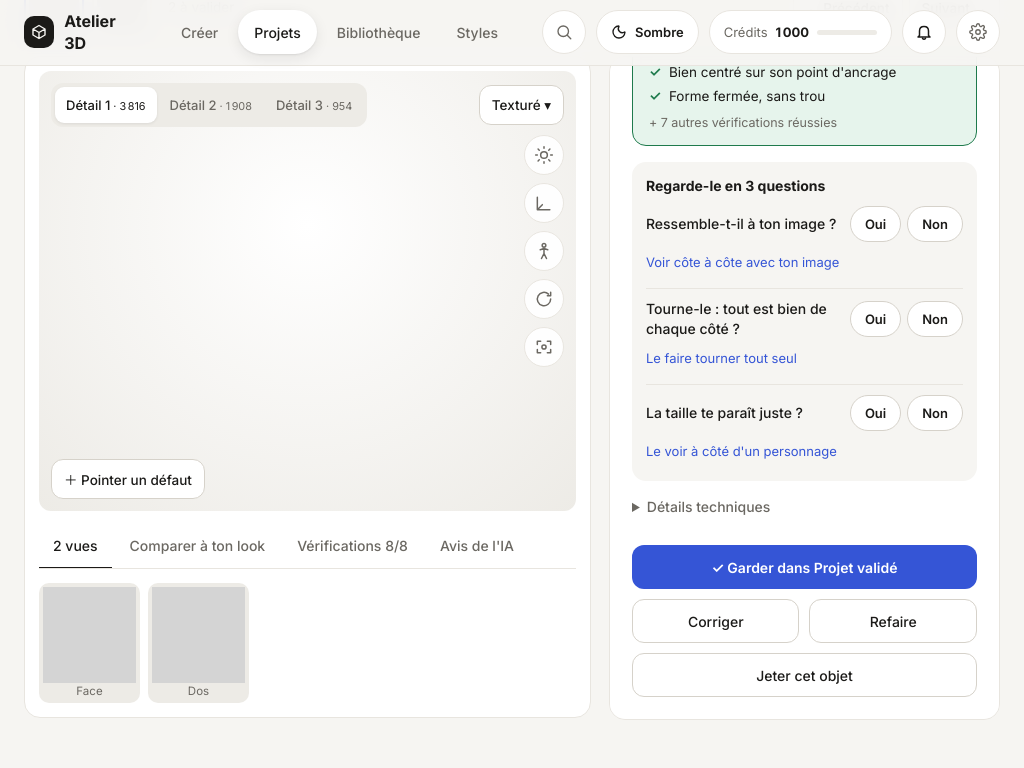
Test: Validation › jeter envoie le motif choisi ; quand tout est décidé, l'écran de fin propose l'Essai
The image size is (1024, 768).
(page scrolled)
What coordinates should you click on to do the following:
click the button "✓ Garder dans Projet validé"
I would click on:
 (804, 567)
Its box is [632,545,977,589].
(page scrolled)
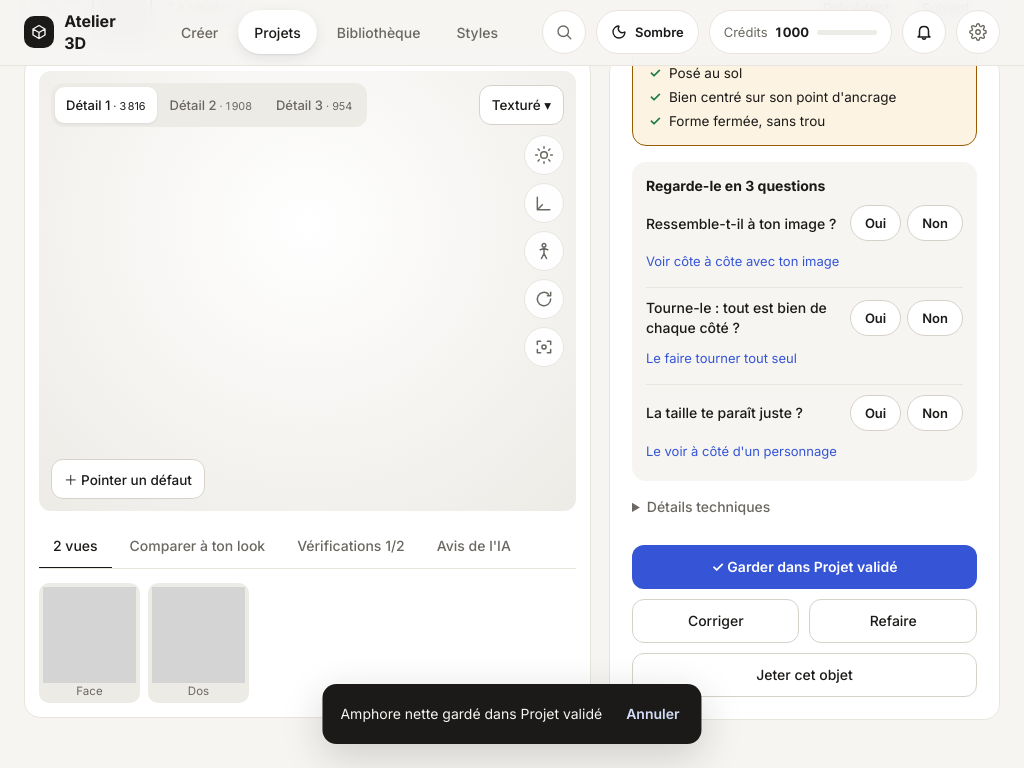
What coordinates should you click on to do the following:
click the button "Jeter cet objet"
I would click on:
 (804, 674)
Its box is [632,652,977,696].
(page scrolled)
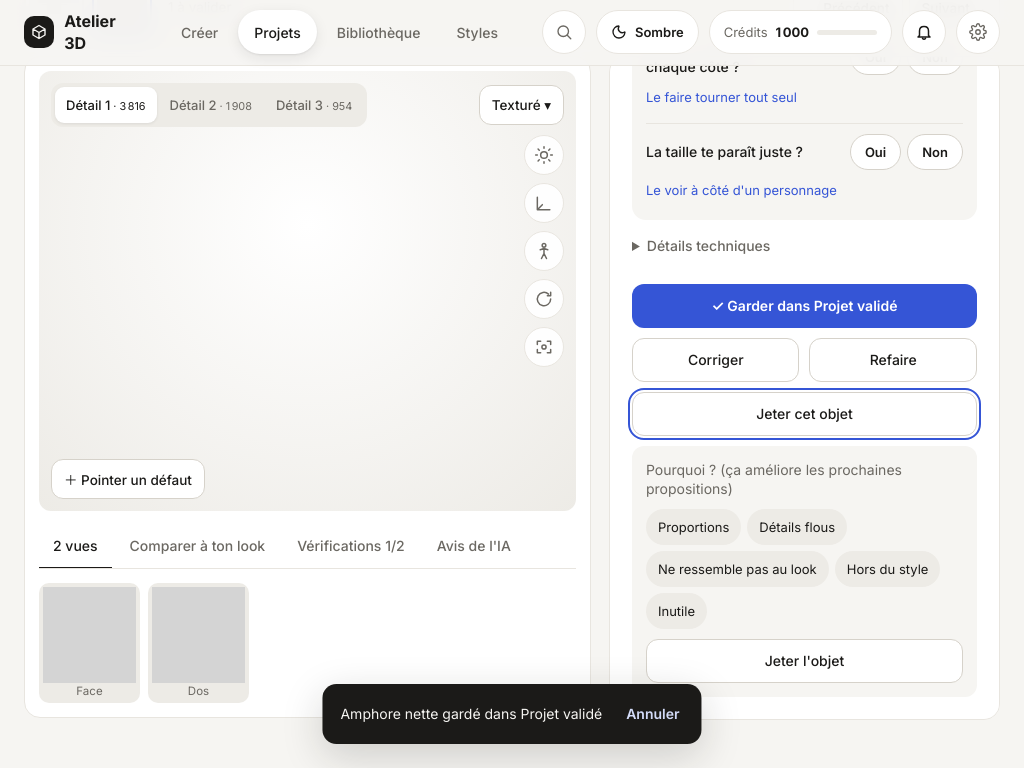
What coordinates should you click on to do the following:
click the button "Proportions"
I would click on:
 (694, 527)
Its box is [646,509,741,545].
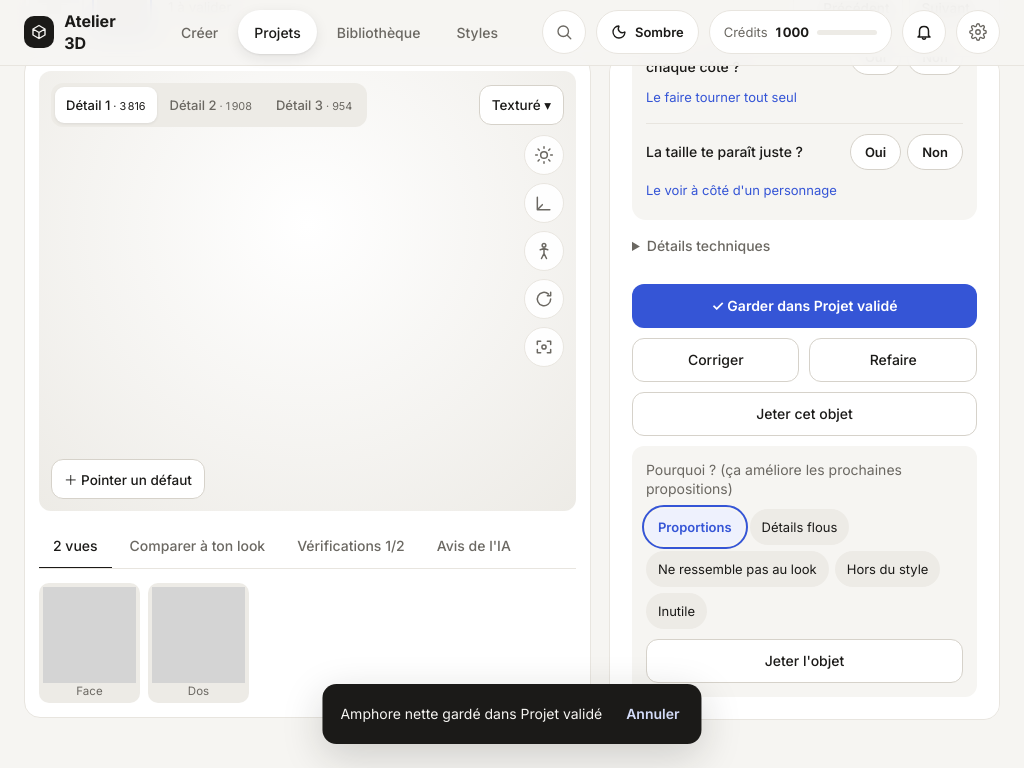
What coordinates should you click on to do the following:
click the button "Jeter l'objet"
I would click on:
 (804, 661)
Its box is [646,639,963,683].
(page scrolled)
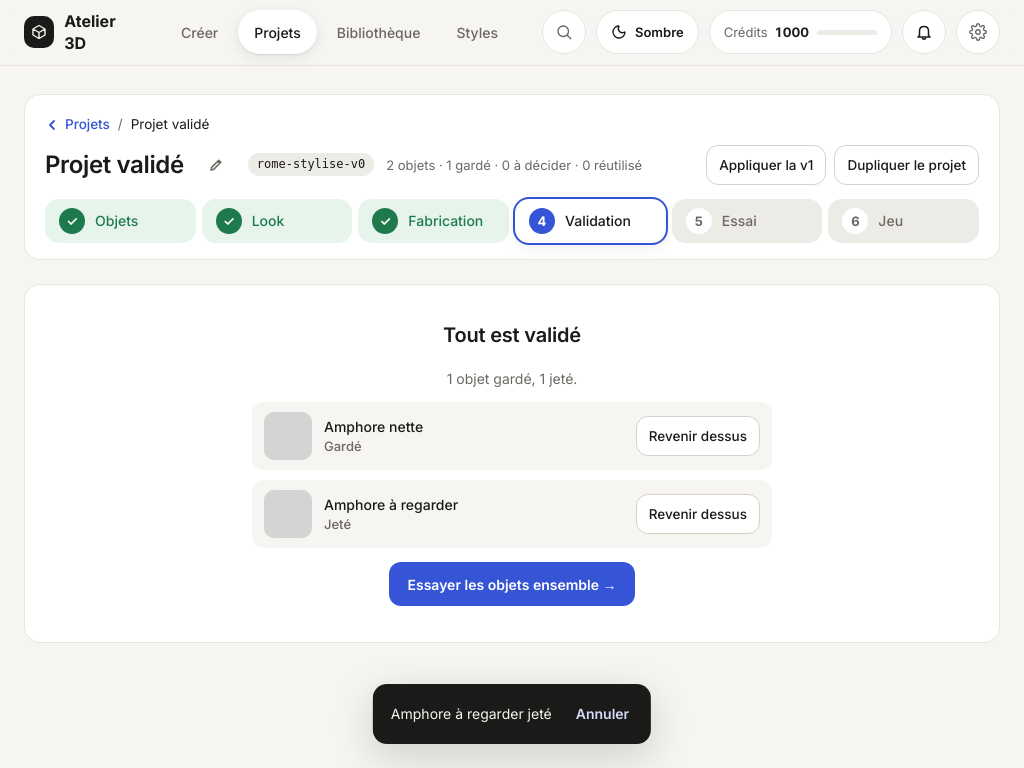
Result: the heading "Tout est validé" is shown at [443,321,581,349]
Result: the text "1 objet gardé, 1 jeté." is shown at [447,369,577,388]
